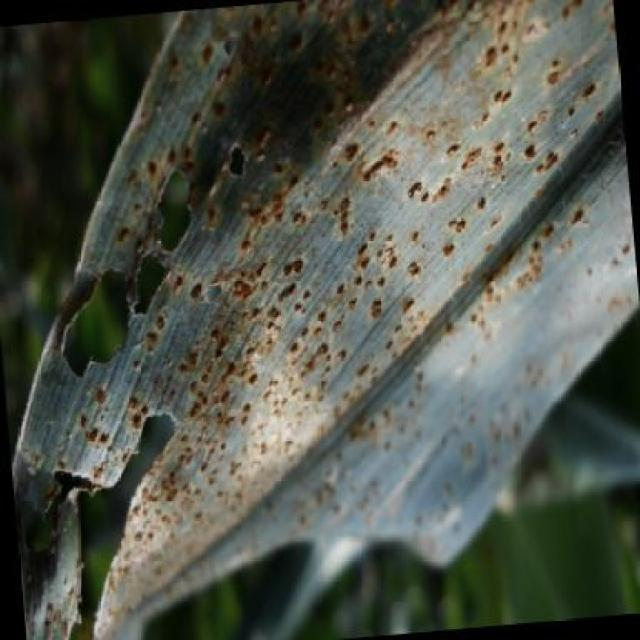Corn_Rust: (32, 29, 612, 606)
